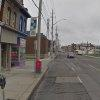Car: (64, 47, 81, 61)
